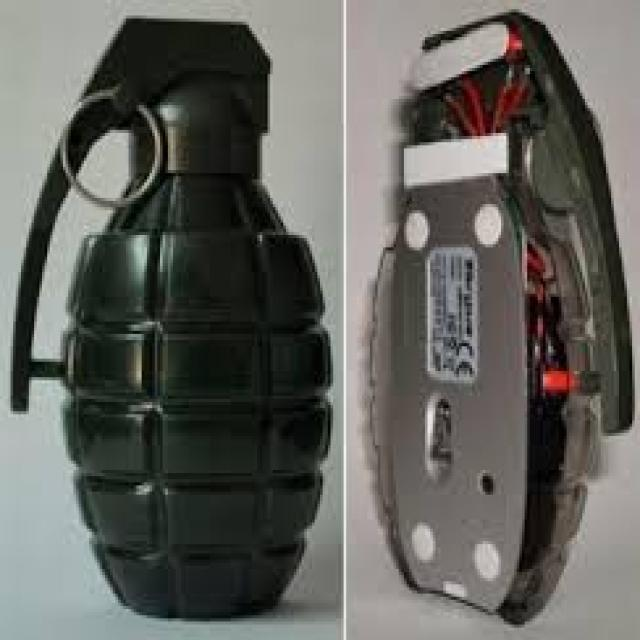grenade: (1, 9, 342, 623)
